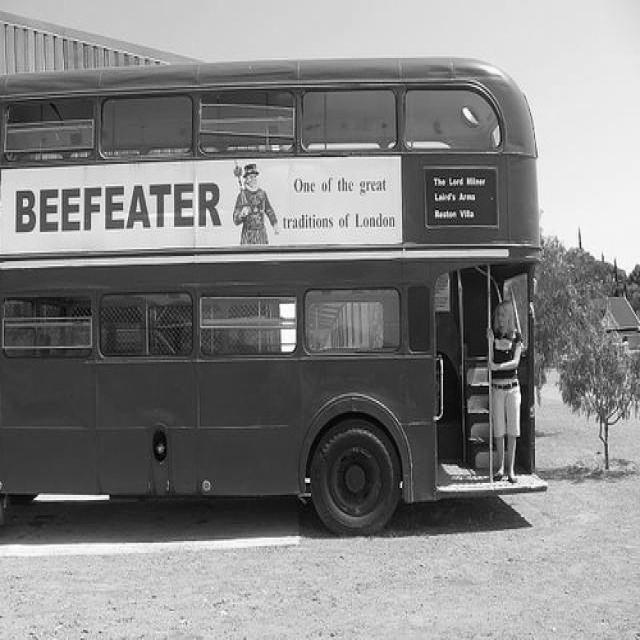bus: (1, 56, 548, 532)
